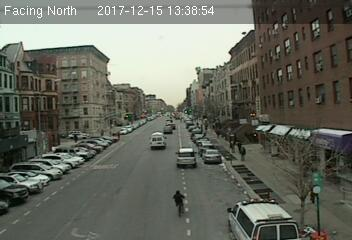bicycle: (173, 190, 185, 218)
car: (175, 147, 196, 168), (201, 149, 221, 164)
pedestrian: (239, 142, 246, 162)
police: (227, 197, 301, 240)
truck: (150, 132, 166, 149)
